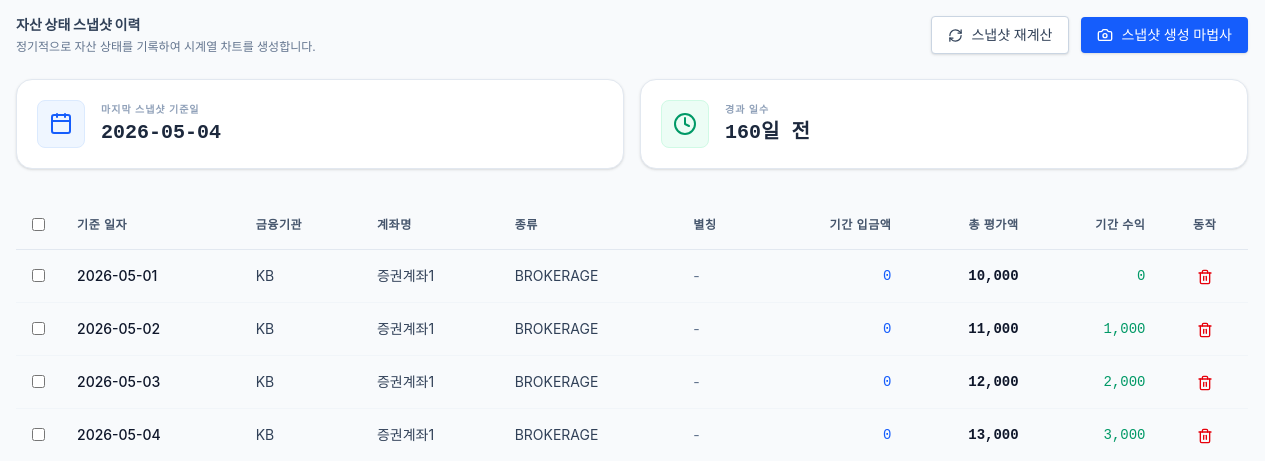
SnapshotsTab Component › 스냅샷 다중 선택 및 일괄 삭제 › 헤더 전체 선택 체크박스 클릭 시 모든 행이 선택/해제되어야 한다
전체 선택 클릭
Step 1. Click the checkbox with test id "select-all-checkbox" → (38, 224), box x1=32 y1=218 x2=45 y2=231
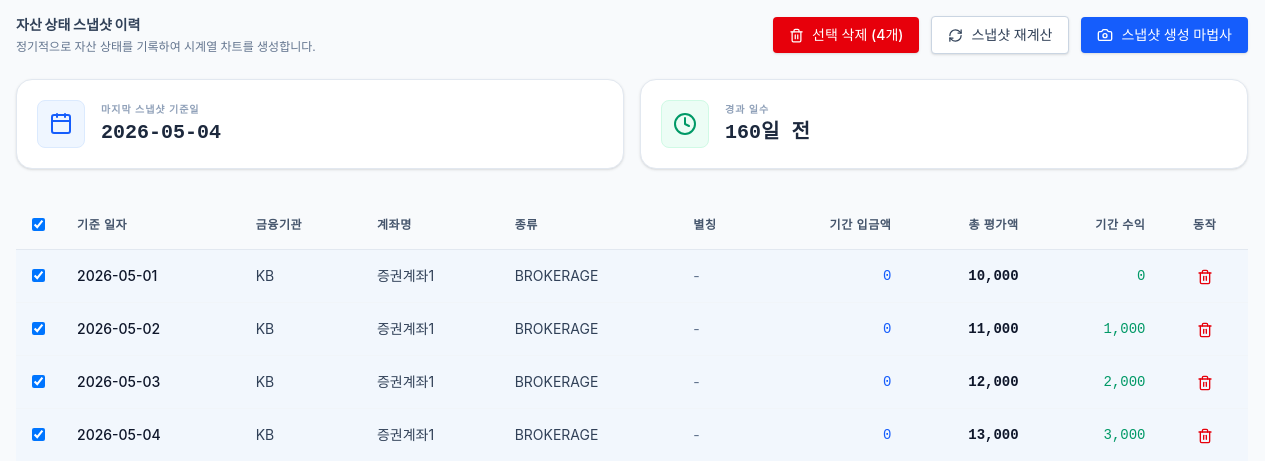
Expected: the number of checkboxes named "행 선택" is 4, x1=32 y1=269 x2=45 y2=282; x1=32 y1=322 x2=45 y2=335; x1=32 y1=375 x2=45 y2=388; x1=32 y1=428 x2=45 y2=441
Expected: the checkbox named "행 선택" is checked, x1=32 y1=269 x2=45 y2=282
Expected: the button "선택 삭제 (4개)" is shown, x1=773 y1=17 x2=920 y2=53
전체 해제 클릭
Step 2. Click the checkbox with test id "select-all-checkbox" → (38, 224), box x1=32 y1=218 x2=45 y2=231
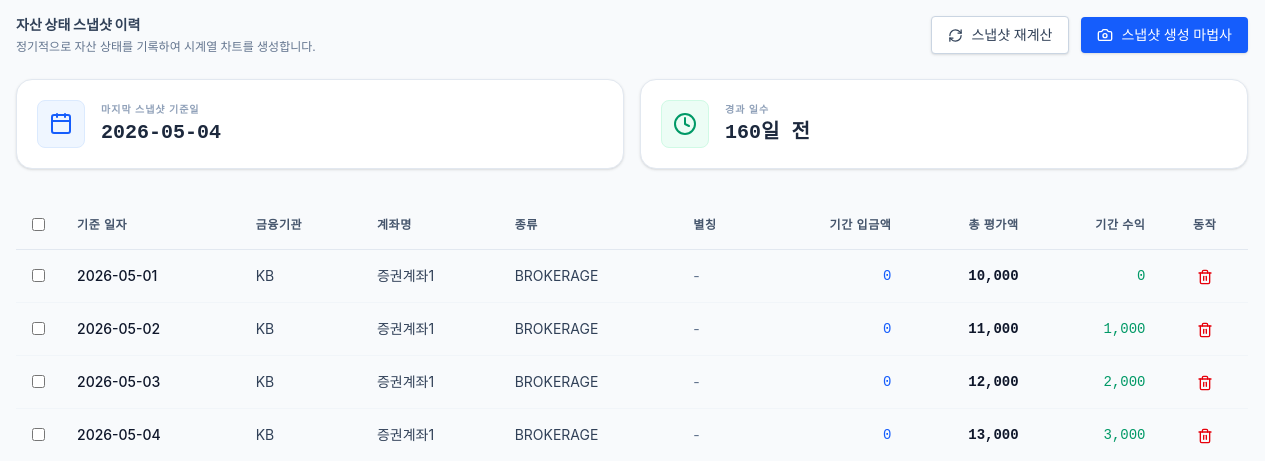
Expected: the checkbox named "행 선택" is not checked, x1=32 y1=269 x2=45 y2=282
Expected: the button "선택 삭제" is gone
